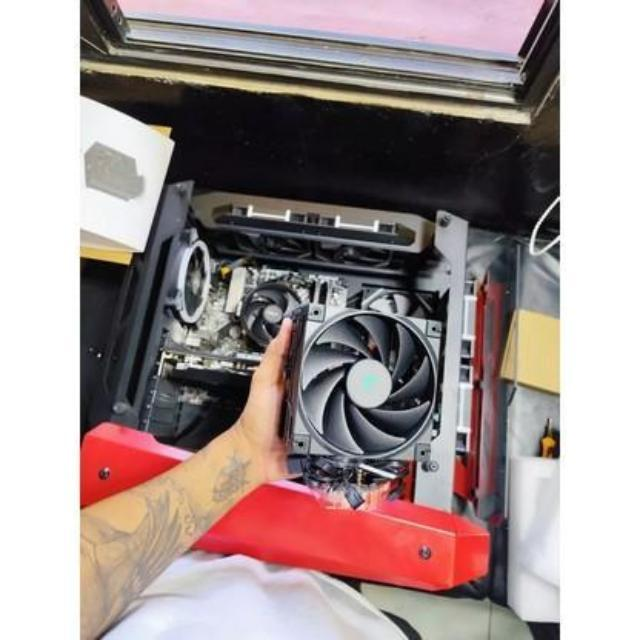CPU_Fan: (287, 304, 441, 476)
